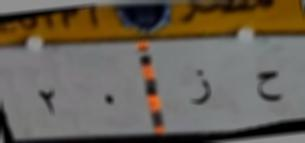0: (94, 84, 129, 116)
2: (34, 84, 62, 118)
7aa: (246, 62, 291, 113)
zay: (181, 61, 215, 109)
